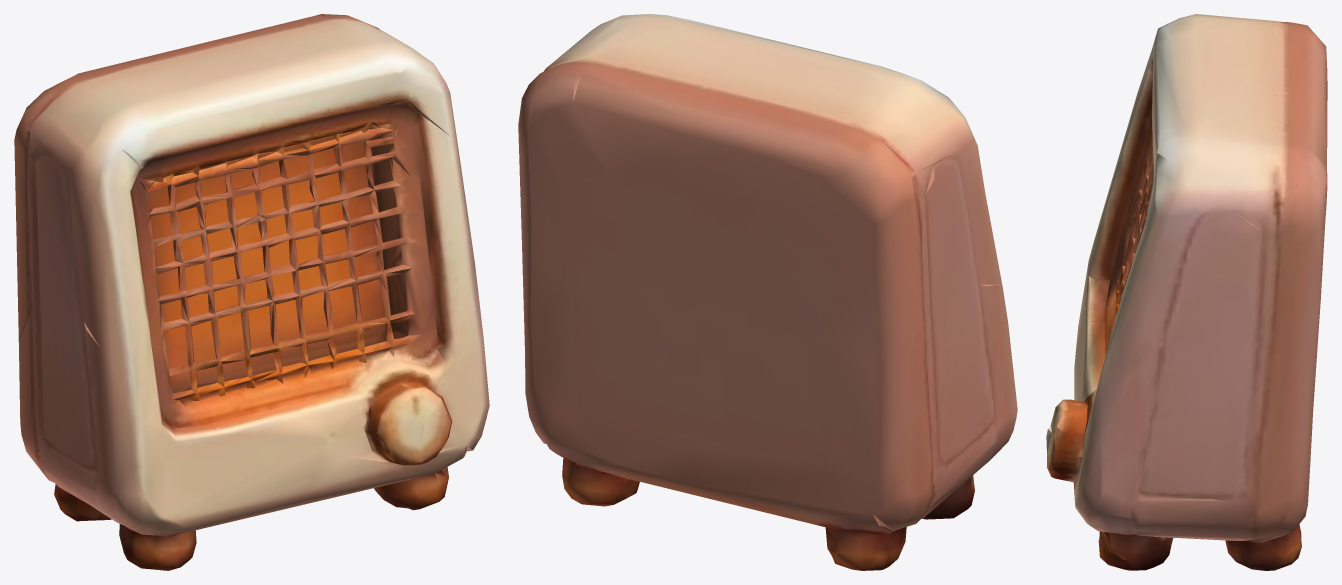
File: appl05.glb
The picture shows the model from 3 angles, left to right: view 1: azimuth 30°, elevation 25°; view 2: azimuth 150°, elevation 25°; view 3: azimuth 270°, elevation 25°; orthographic projection. The views are drawn at different scales.
Bounding box in the file's own units: 0.2083 × 0.2291 × 0.1376.
1 material, 1 textured.
